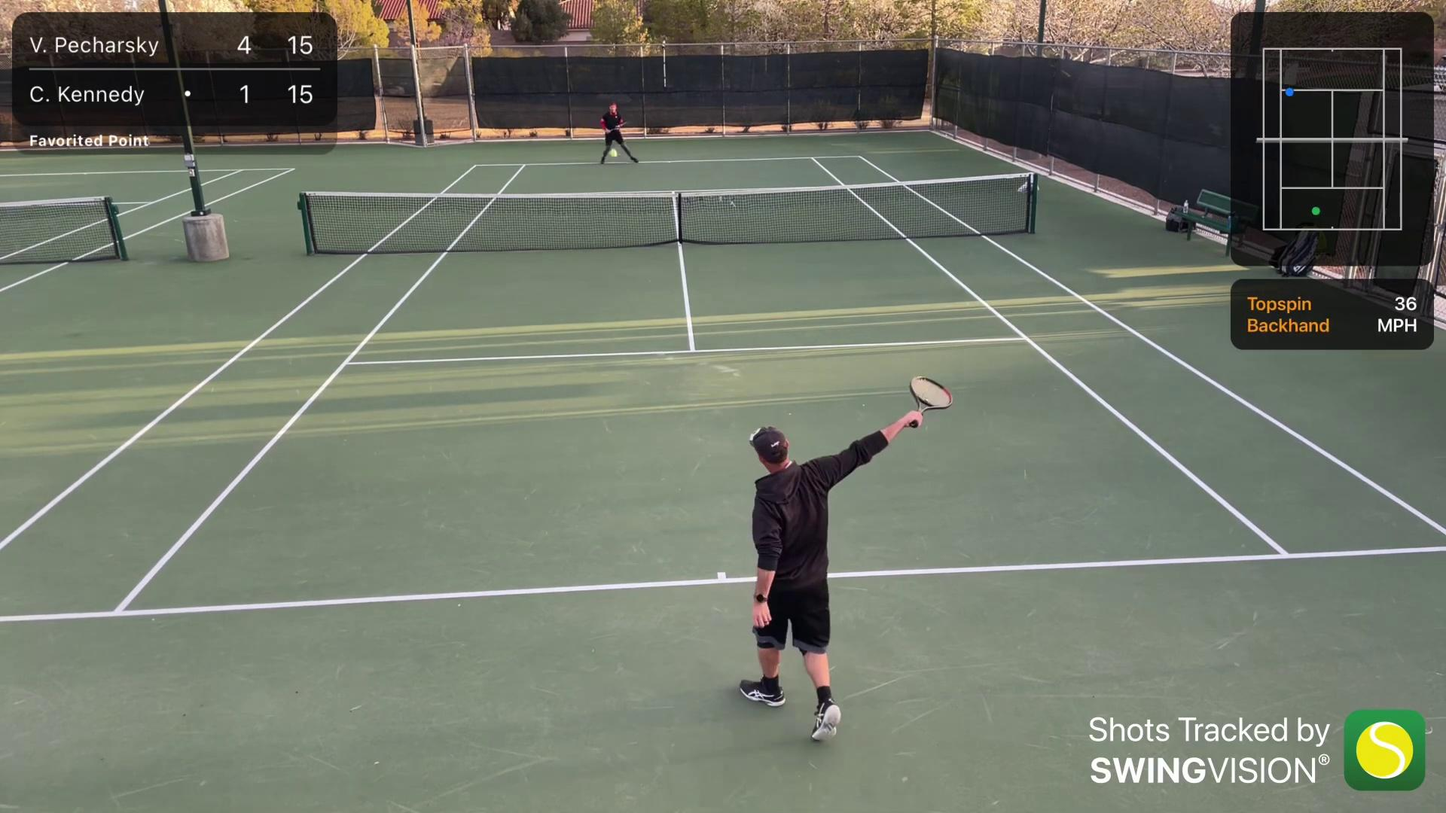ball: (608, 148, 619, 159), (499, 190, 500, 192)
